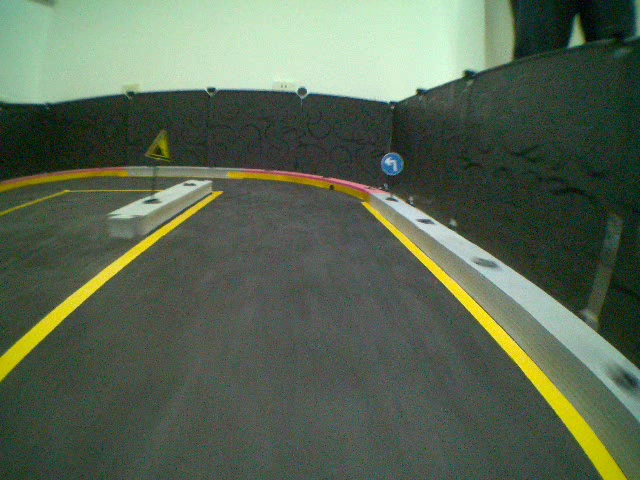fast: (144, 130, 175, 162)
turn: (380, 152, 405, 177)
